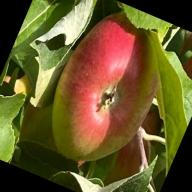Apples: (34, 3, 178, 179), (104, 105, 168, 192)
